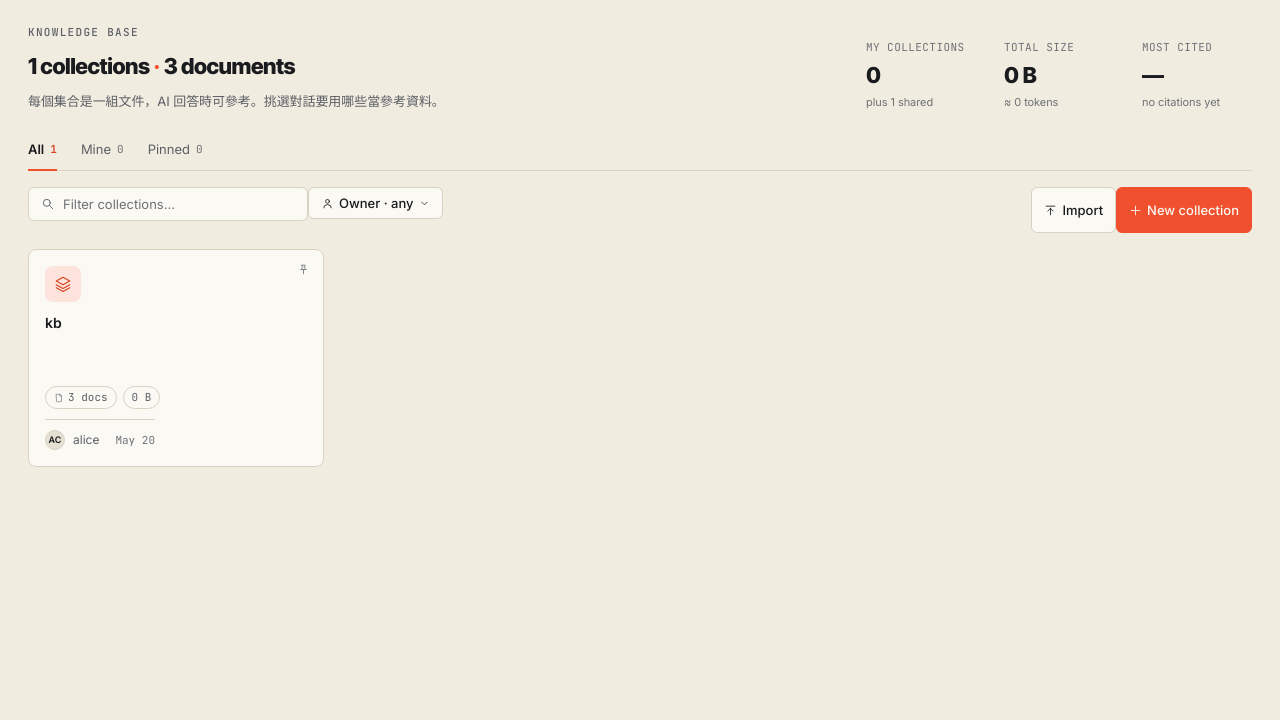
Test: KbCollectionsPage › says the re-read is already running instead of confirming a second send
Click the button with aria-label "Open kb".
click(63, 284)  # box [28,249,324,467]
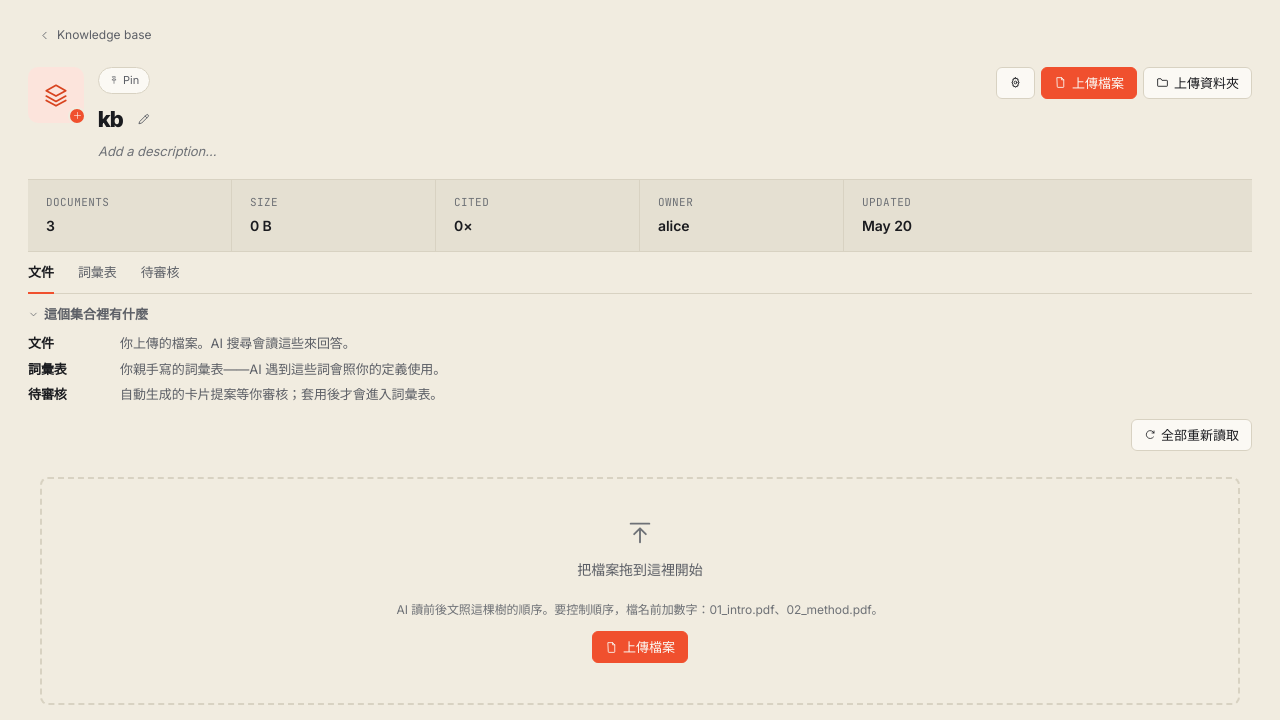
Click the button with test id "kb-reindex-all".
click(1192, 435)  # box [1131,419,1252,451]
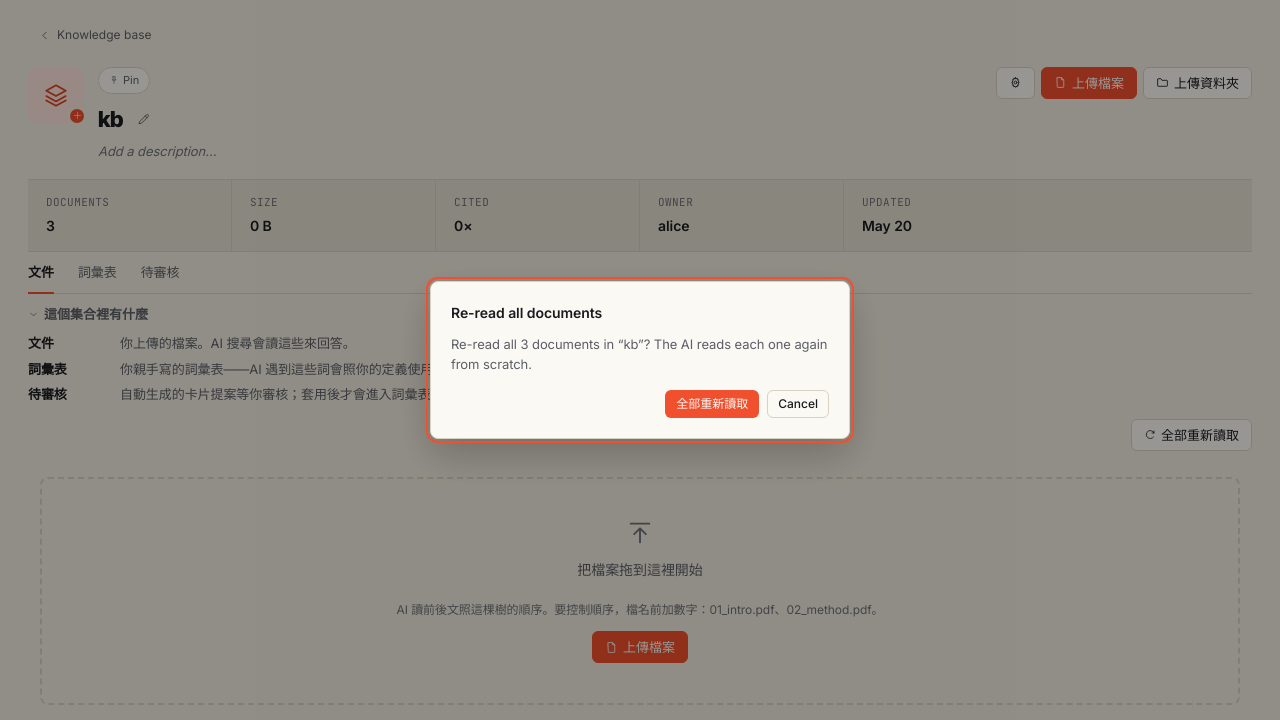
Click the button "全部重新讀取".
click(712, 404)  # box [665,390,759,418]
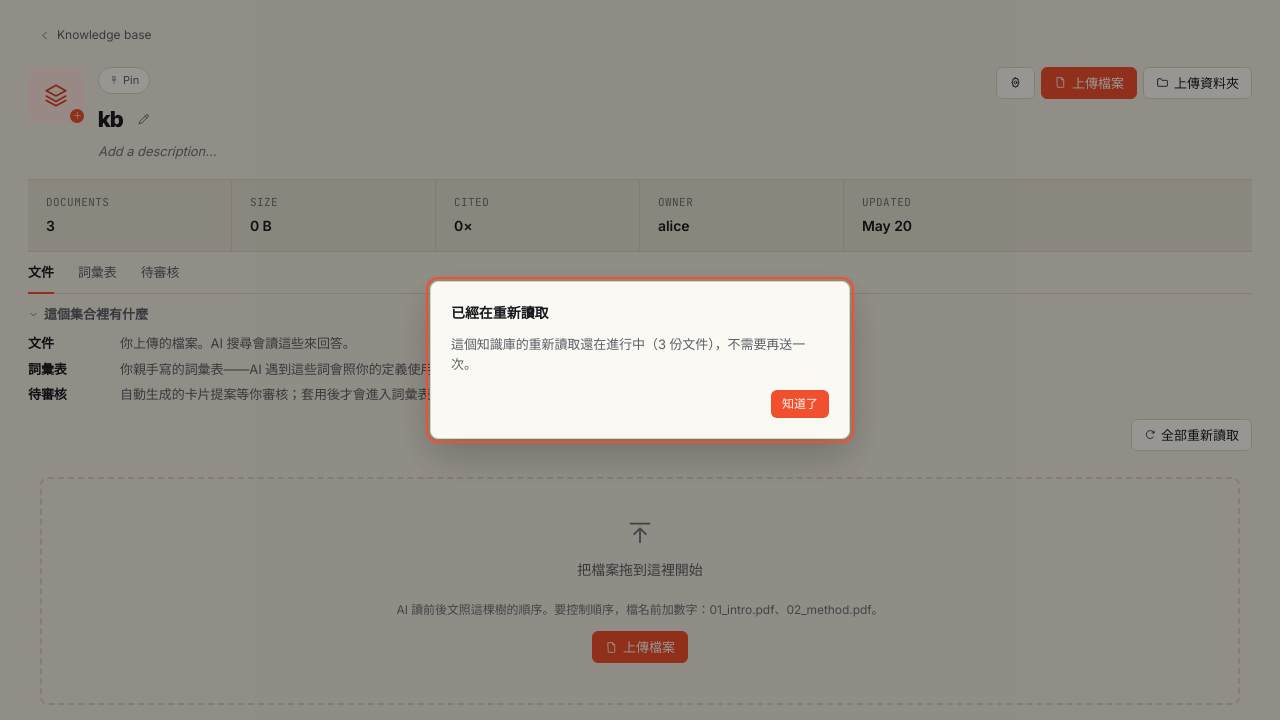
Now the dialog "已經在重新讀取" is shown, box [430,281,850,439]
